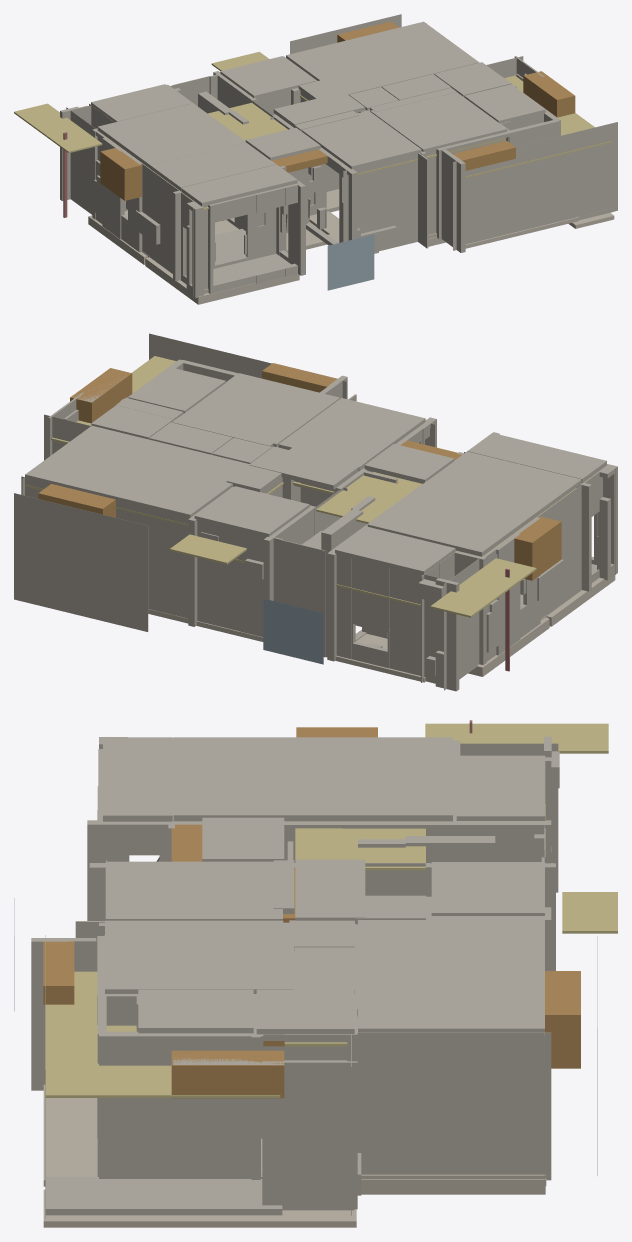
File: Soulace_L1_first_parts.dae
The picture shows the model from 3 angles, top to bottom: view 1: azimuth 30°, elevation 25°; view 2: azimuth 150°, elevation 25°; view 3: azimuth 270°, elevation 25°; orthographic projection. The views are drawn at different scales.
Visible parts, largest first — view 1: wall_08, wall_01, dropped_ceiling_00_01, wall_14, dropped_ceiling_01_01, dropped_ceiling_02_01, dropped_ceiling_04_01, wall_18, dropped_ceiling_05_01, wall_07, dropped_ceiling_06_01, dropped_ceiling_08_01 (+38 smaller); view 2: wall_02, wall_20, dropped_ceiling_00_01, wall_01, dropped_ceiling_01_01, dropped_ceiling_02_01, dropped_ceiling_04_01, dropped_ceiling_05_01, dropped_ceiling_08_01, dropped_ceiling_07_01, parapet_30, dropped_ceiling_06_01 (+34 smaller); view 3: wall_16, dropped_ceiling_00_01, wall_10, dropped_ceiling_01_01, wall_19, dropped_ceiling_02_01, dropped_ceiling_04_01, dropped_ceiling_03, dropped_ceiling_05_01, floor_05_01, dropped_ceiling_08_01, dropped_ceiling_06_01 (+37 smaller).
Boxes of the visible parts, x1,y1,x2,y2 form: wall_08: (453, 122, 617, 250); wall_01: (66, 107, 203, 298); dropped_ceiling_00_01: (286, 21, 479, 94); wall_14: (343, 150, 436, 252); dropped_ceiling_01_01: (97, 103, 245, 168); dropped_ceiling_02_01: (370, 92, 507, 152); dropped_ceiling_04_01: (301, 110, 421, 169); wall_18: (193, 182, 302, 296); dropped_ceiling_05_01: (150, 142, 275, 190); wall_07: (173, 166, 286, 281); dropped_ceiling_06_01: (181, 164, 297, 206); dropped_ceiling_08_01: (220, 56, 315, 98); wall_02: (21, 476, 459, 691); wall_20: (14, 493, 148, 631); dropped_ceiling_00_01: (25, 425, 249, 518); wall_01: (444, 464, 617, 690); dropped_ceiling_01_01: (367, 478, 545, 556); dropped_ceiling_02_01: (179, 373, 340, 446); dropped_ceiling_04_01: (278, 398, 425, 463); dropped_ceiling_05_01: (432, 451, 581, 510); dropped_ceiling_08_01: (194, 486, 309, 537); dropped_ceiling_07_01: (335, 526, 455, 575); parapet_30: (263, 598, 323, 664); dropped_ceiling_06_01: (467, 433, 606, 483); wall_16: (359, 1032, 551, 1180); dropped_ceiling_00_01: (358, 916, 544, 1032); wall_10: (99, 1031, 357, 1178); dropped_ceiling_01_01: (275, 737, 452, 821); wall_19: (262, 1061, 357, 1209); dropped_ceiling_02_01: (105, 920, 283, 993); dropped_ceiling_04_01: (105, 861, 282, 920); dropped_ceiling_03: (45, 971, 280, 1097); dropped_ceiling_05_01: (173, 737, 275, 821); floor_05_01: (45, 1177, 282, 1215); dropped_ceiling_08_01: (431, 862, 544, 915); dropped_ceiling_06_01: (103, 737, 172, 821).
Size of the model in its own units: 18.1 by 12.94 by 3.97.
